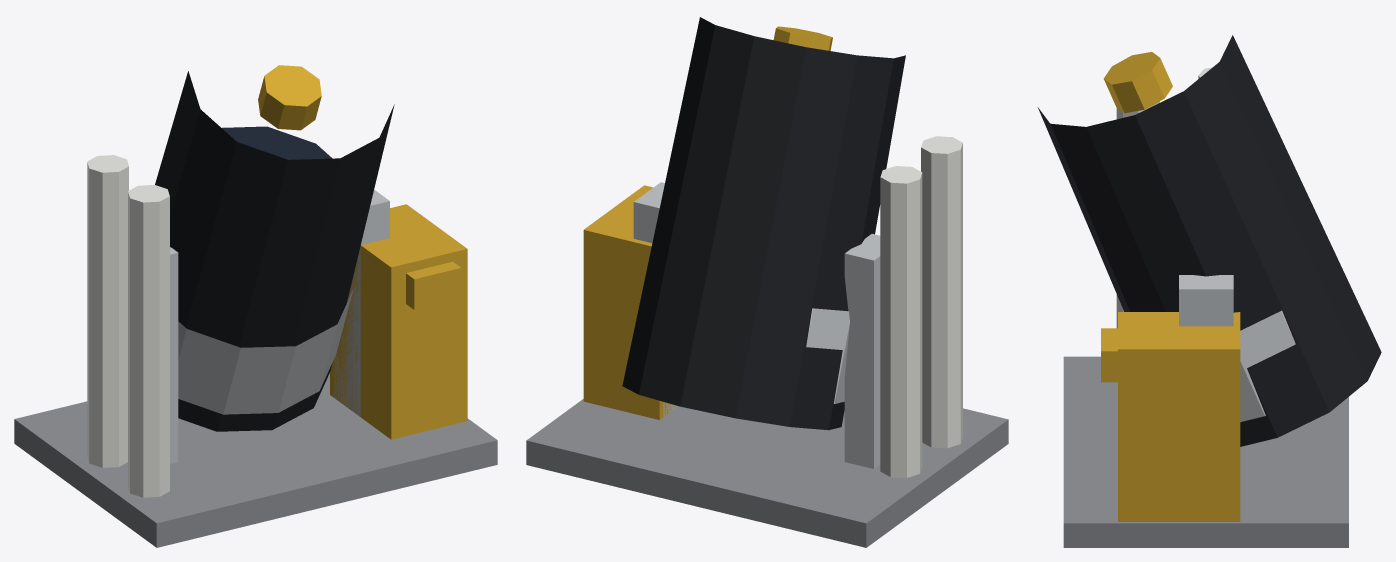
File: sci-hirise-sharad.glb
3 renders of one model, left to right at view 1: azimuth 30°, elevation 25°; view 2: azimuth 150°, elevation 25°; view 3: azimuth 270°, elevation 25°, orthographic.
Parts seen in each view (by area): view 1: SciHiriseSharad_HullBlack, SciHiriseSharad_Titanium, SciHiriseSharad_Hull, SciHiriseSharad_FoilGold, SciHiriseSharad_FoilSilver, SciHiriseSharad_Aluminum, SciHiriseSharad_VisorGold, SciHiriseSharad_Visor; view 2: SciHiriseSharad_HullBlack, SciHiriseSharad_Titanium, SciHiriseSharad_Hull, SciHiriseSharad_FoilGold, SciHiriseSharad_Aluminum, SciHiriseSharad_FoilSilver; view 3: SciHiriseSharad_HullBlack, SciHiriseSharad_FoilGold, SciHiriseSharad_Titanium, SciHiriseSharad_FoilSilver, SciHiriseSharad_Aluminum, SciHiriseSharad_VisorGold.
Boxes of the visible parts, x1=… form: SciHiriseSharad_HullBlack: x1=155, y1=71, x2=394, y2=431; SciHiriseSharad_Titanium: x1=14, y1=373, x2=497, y2=547; SciHiriseSharad_Hull: x1=87, y1=155, x2=169, y2=497; SciHiriseSharad_FoilGold: x1=258, y1=65, x2=467, y2=439; SciHiriseSharad_FoilSilver: x1=178, y1=289, x2=353, y2=414; SciHiriseSharad_Aluminum: x1=170, y1=189, x2=389, y2=463; SciHiriseSharad_VisorGold: x1=406, y1=261, x2=461, y2=309; SciHiriseSharad_Visor: x1=222, y1=126, x2=332, y2=159; SciHiriseSharad_HullBlack: x1=622, y1=17, x2=905, y2=430; SciHiriseSharad_Titanium: x1=526, y1=399, x2=1008, y2=547; SciHiriseSharad_Hull: x1=880, y1=136, x2=962, y2=477; SciHiriseSharad_FoilGold: x1=583, y1=26, x2=832, y2=419; SciHiriseSharad_Aluminum: x1=633, y1=182, x2=880, y2=468; SciHiriseSharad_FoilSilver: x1=646, y1=269, x2=849, y2=403; SciHiriseSharad_HullBlack: x1=1037, y1=35, x2=1381, y2=446; SciHiriseSharad_FoilGold: x1=1103, y1=52, x2=1240, y2=521; SciHiriseSharad_Titanium: x1=1063, y1=356, x2=1348, y2=547; SciHiriseSharad_FoilSilver: x1=1240, y1=310, x2=1295, y2=421; SciHiriseSharad_Aluminum: x1=1179, y1=275, x2=1233, y2=326; SciHiriseSharad_VisorGold: x1=1101, y1=328, x2=1117, y2=382.
Size of the model in its own units: 0.58 by 0.6977 by 0.5065.
